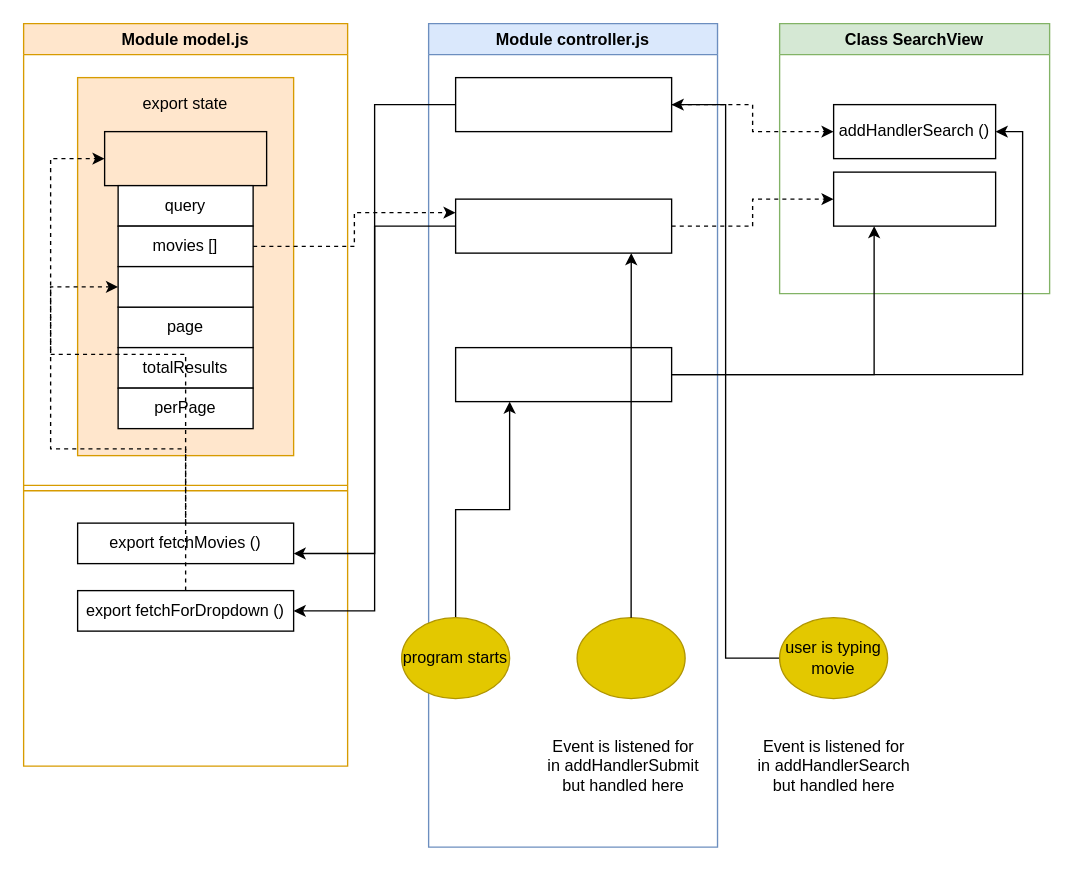
Some shapes in this 1073 by 871 pixel diagram are drawn without their labels. The centre of each missing label's shape, as x and y in pixels:
"addHandlerSubmit ()" belongs at (x=914, y=198).
"controlSearchForDropdown ()" belongs at (x=563, y=104).
"controlSearchMovies ()" belongs at (x=563, y=225).
"dropdownMovies []" belongs at (x=185, y=286).
"init ()" belongs at (x=563, y=374).
"search {}" belongs at (x=185, y=158).
"user submits search movie" belongs at (x=630, y=657).
